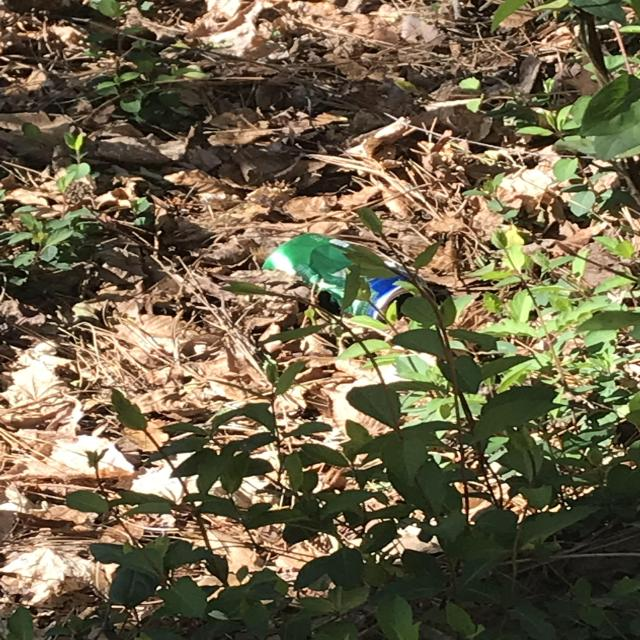litter: (243, 217, 483, 333)
